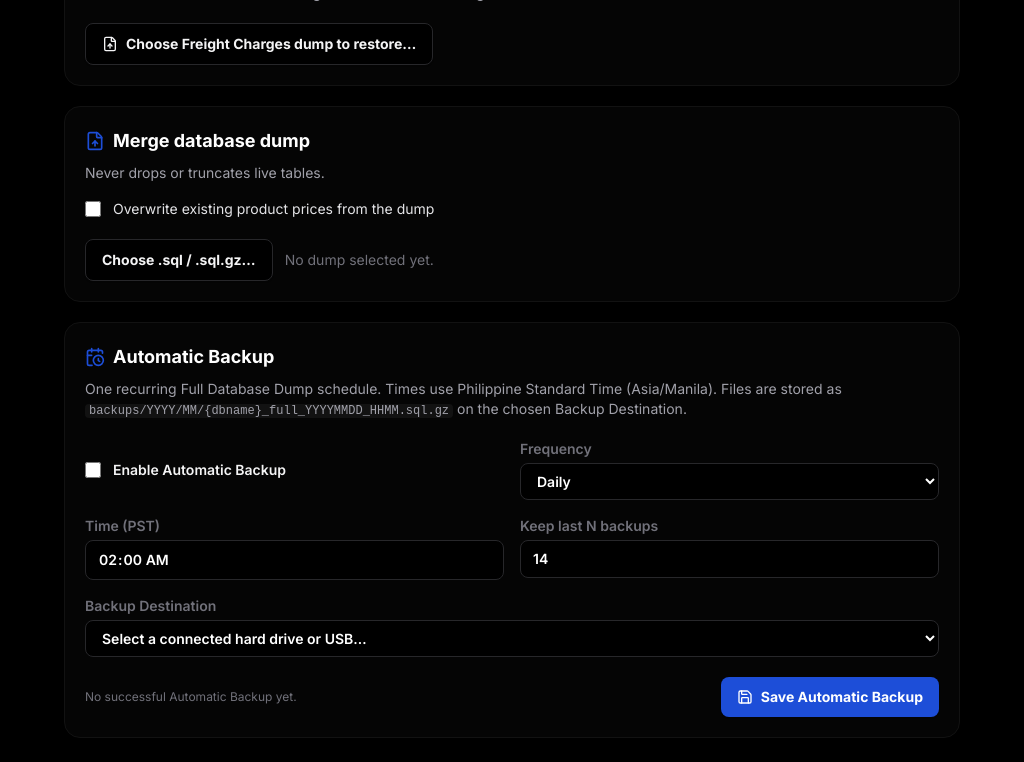
Test: ServerMaintenanceView › blocks enabling Automatic Backup without a Backup Destination
The width and height of the screenshot is (1024, 762).
(page scrolled)
Check: the heading "Automatic Backup" is shown, box [113,343,274,371]
Click the checkbox labelled "Enable Automatic Backup" at (93, 470), box [85,462,101,478]
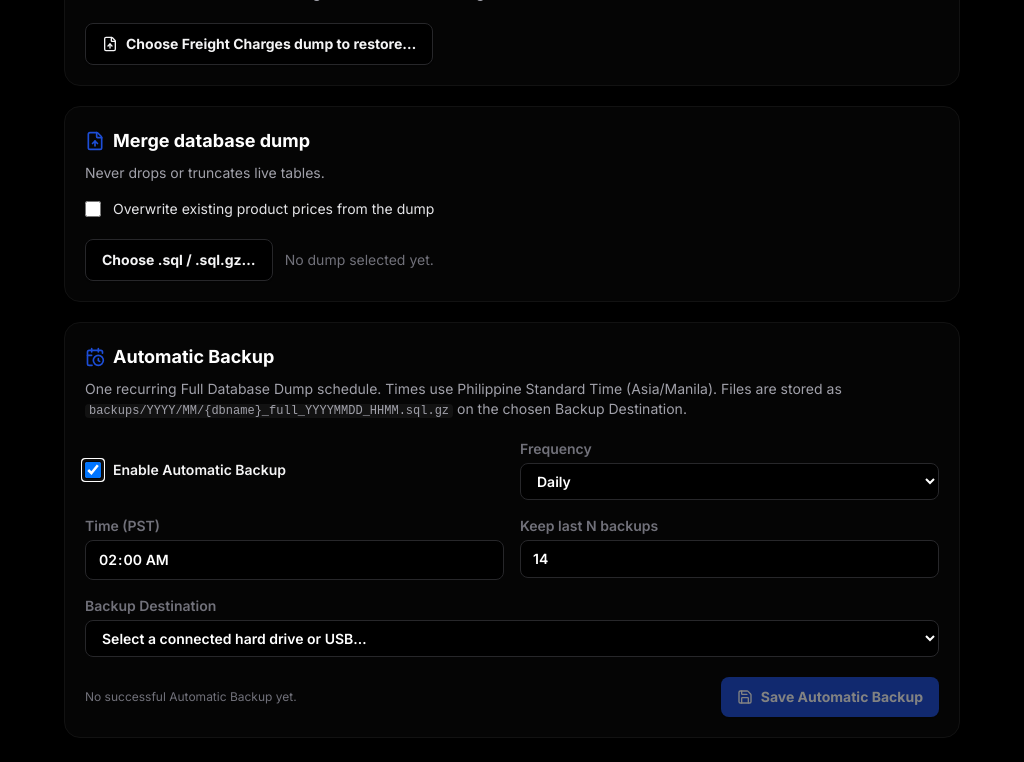
Check: the button "Save Automatic Backup" is disabled, box [721,677,939,717]
